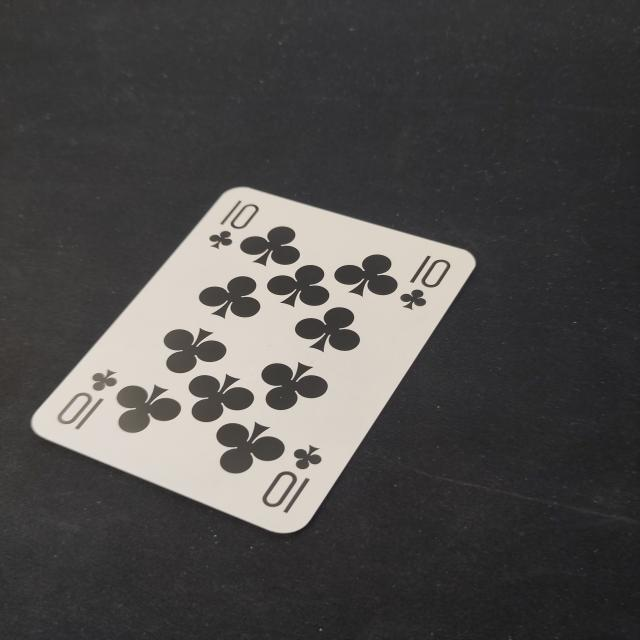10c: (253, 438, 332, 520), (50, 363, 123, 437), (391, 251, 462, 316), (200, 194, 266, 256)
